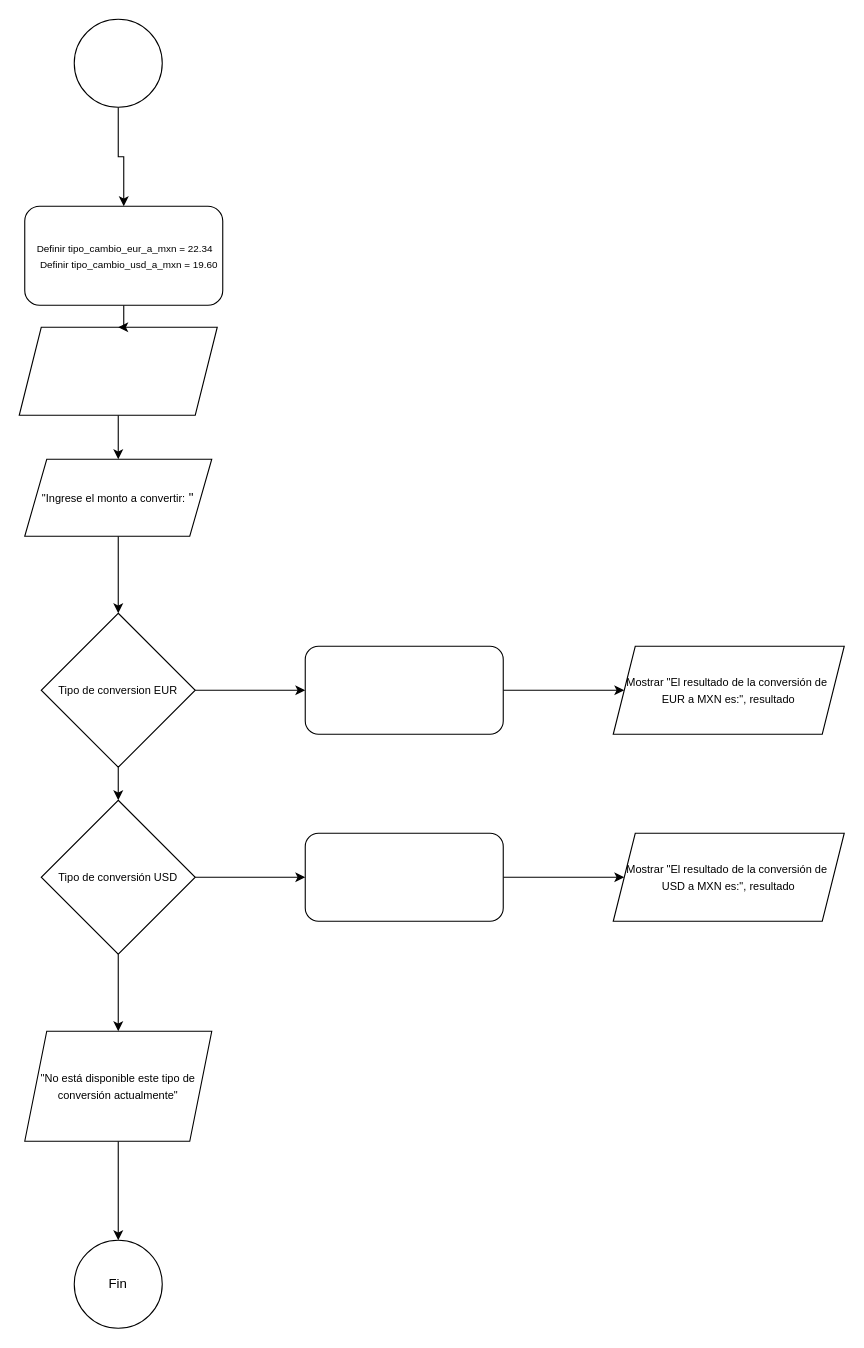
Some shapes in this 864 by 1348 pixel diagram are drawn without their labels. The centre of each missing label's shape, as x and y in pixels:
"Ingrese la moneda origen para la conversión (EUR/USD): ": [117,370]
Calcular resultado = monto_a_convertir * tipo_cambio_eur_a_mxn: [403,689]
Calcular resultado = monto_a_convertir * tipo_cambio_usd_a_mxn: [403,876]
Inicio: [117,62]
